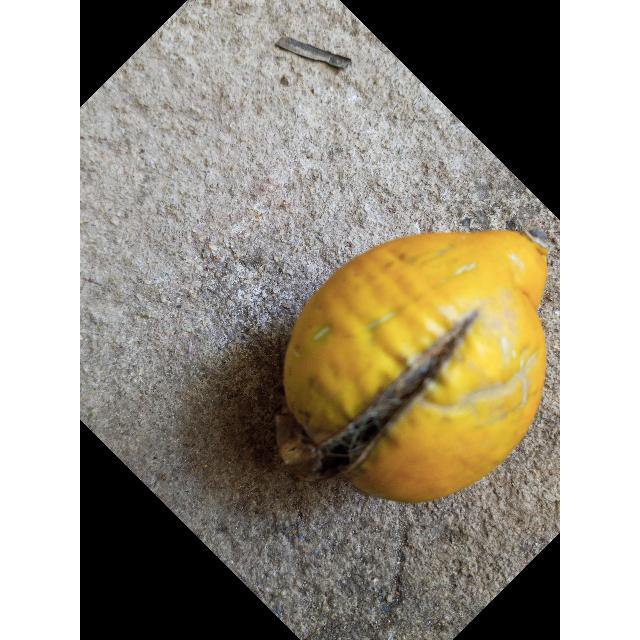damaged: (275, 230, 548, 503)
